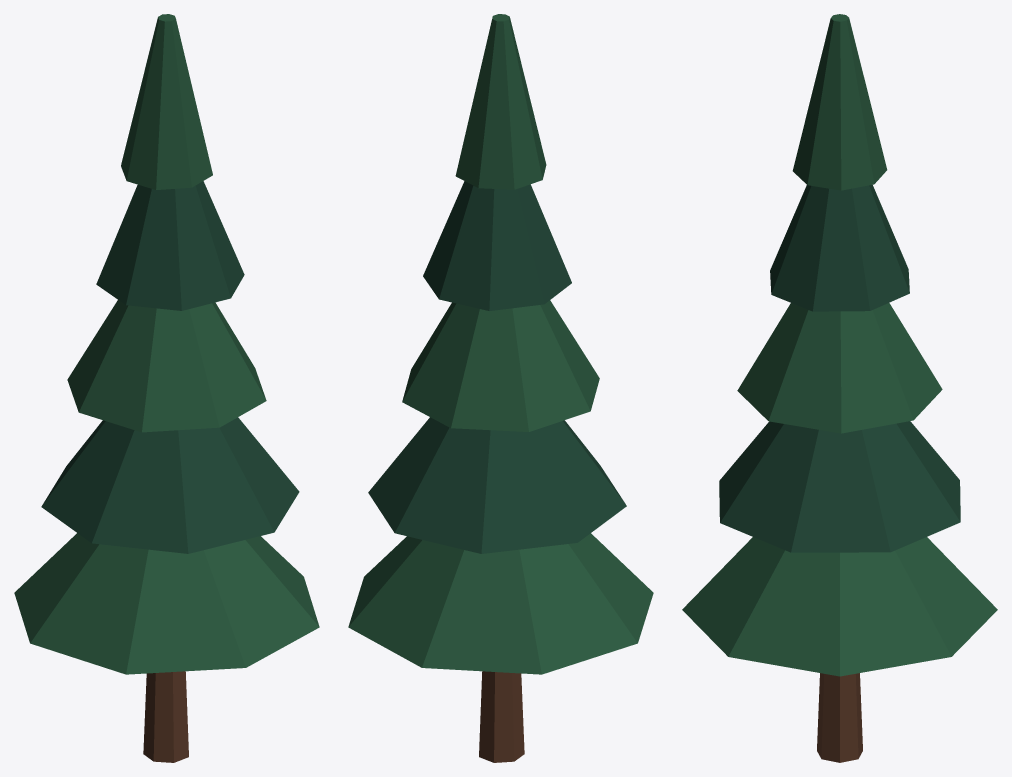
File: tree-sugi.glb
3 views of the same model, side by side, from view 1: azimuth 30°, elevation 25°; view 2: azimuth 150°, elevation 25°; view 3: azimuth 270°, elevation 25° (orthographic).
Visible parts, largest first — view 1: TreeSugi_Needles, TreeSugi_NeedlesDark, TreeSugi_Trunk; view 2: TreeSugi_Needles, TreeSugi_NeedlesDark, TreeSugi_Trunk; view 3: TreeSugi_Needles, TreeSugi_NeedlesDark, TreeSugi_Trunk.
Boxes of the visible parts, left/top/right/bottom form: TreeSugi_Needles: left=14, top=14, right=319, bottom=674; TreeSugi_NeedlesDark: left=41, top=181, right=299, bottom=553; TreeSugi_Trunk: left=143, top=671, right=188, bottom=762; TreeSugi_Needles: left=348, top=14, right=653, bottom=674; TreeSugi_NeedlesDark: left=368, top=181, right=626, bottom=553; TreeSugi_Trunk: left=479, top=671, right=524, bottom=762; TreeSugi_Needles: left=682, top=14, right=997, bottom=676; TreeSugi_NeedlesDark: left=719, top=184, right=960, bottom=552; TreeSugi_Trunk: left=817, top=673, right=862, bottom=762.
Bounding box in the file's own units: 12 × 30.8 × 12.
